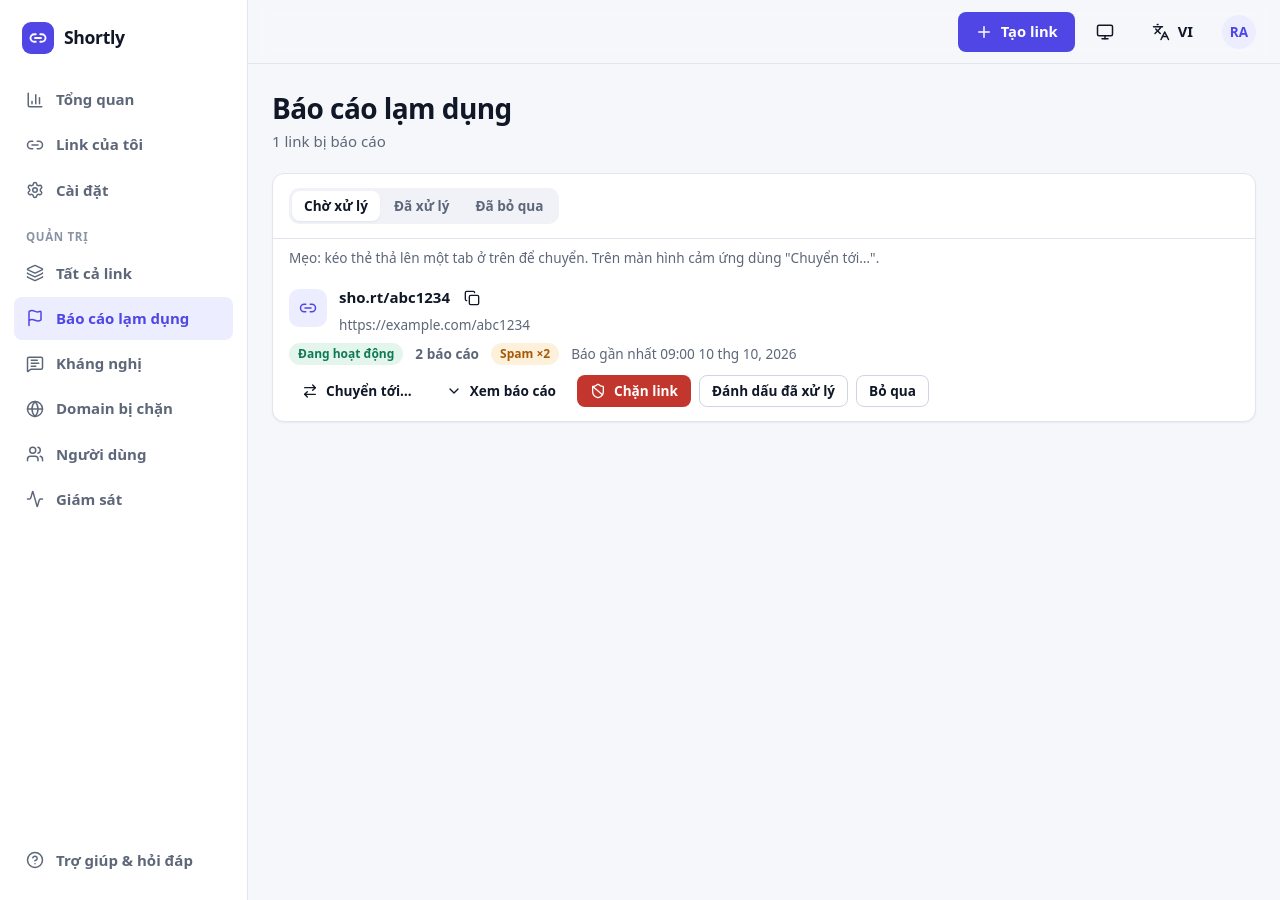
Test case: quản trị: chuyển báo cáo giữa các tab › menu "Chuyển tới…" cho màn hình cảm ứng và bàn phím: chỉ liệt kê hai tab còn lại
Expected: the text "sho.rt/abc1234" is shown, 339,286 -> 450,310
Click the button with aria-label "Chuyển tới… abc1234": (357, 391) 289,375 -> 425,407
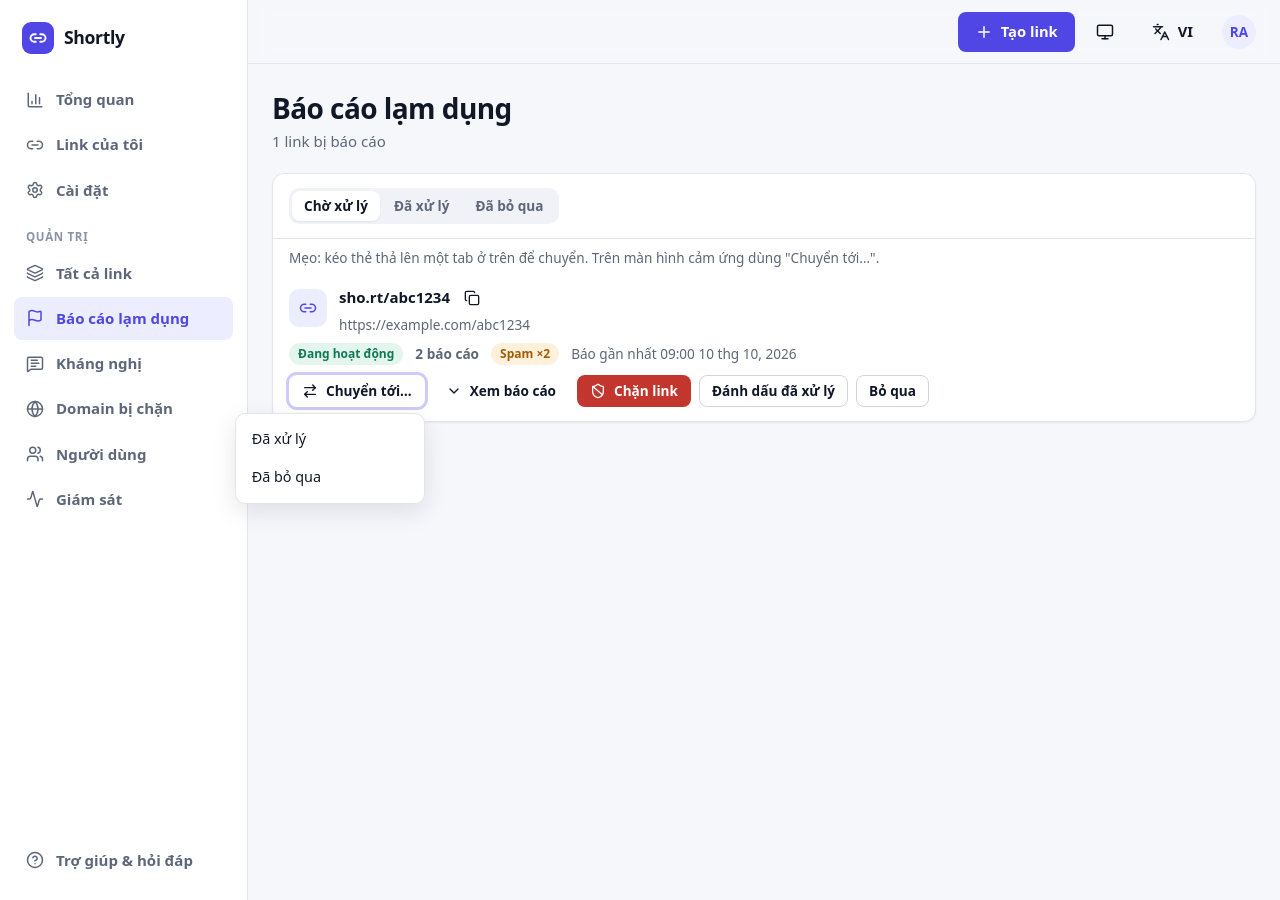
Click the menu item "Đã xử lý": (330, 439) 242,420 -> 418,458
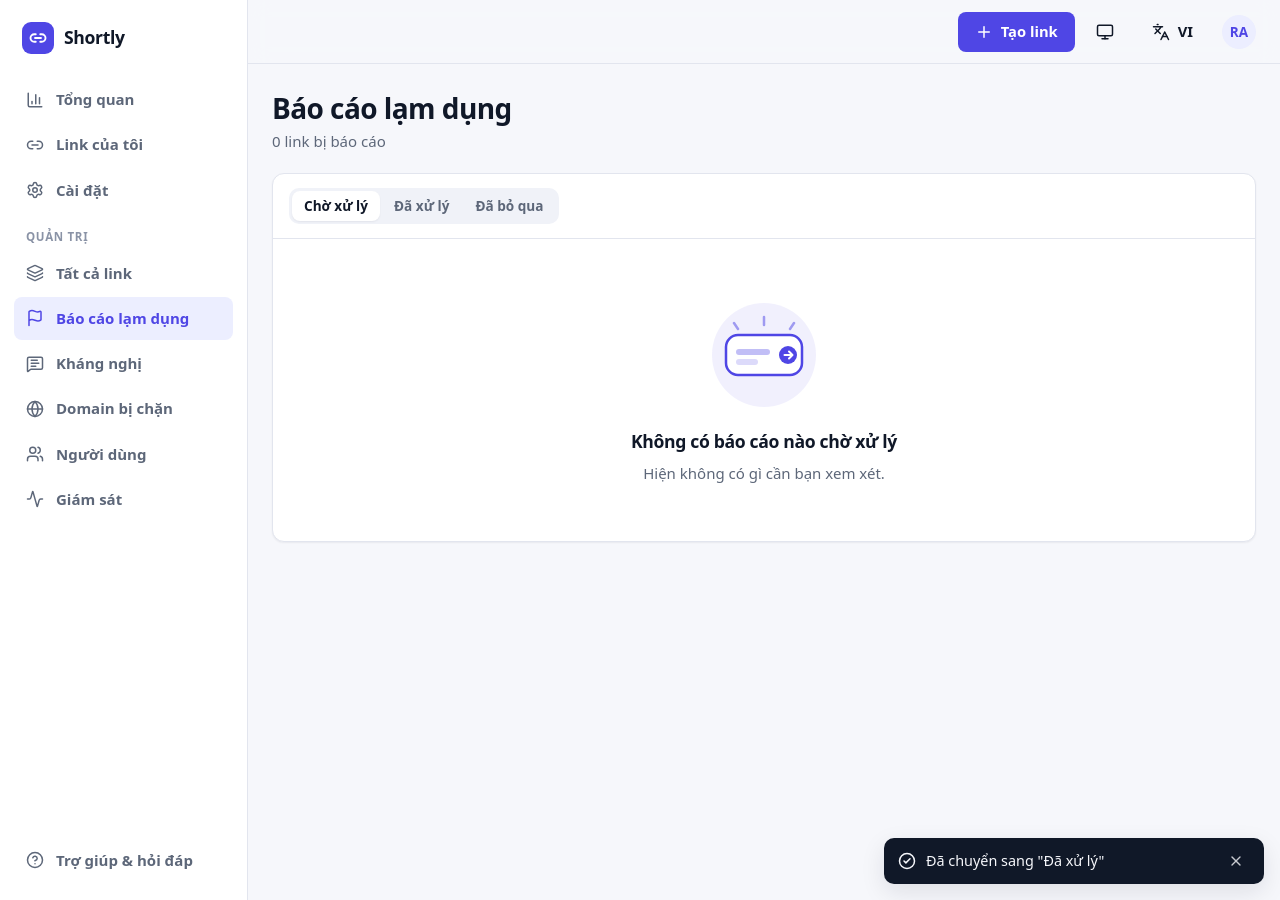
Now the text "Đã chuyển sang \"Đã xử lý\"" is shown, box 926,850 -> 1104,872
